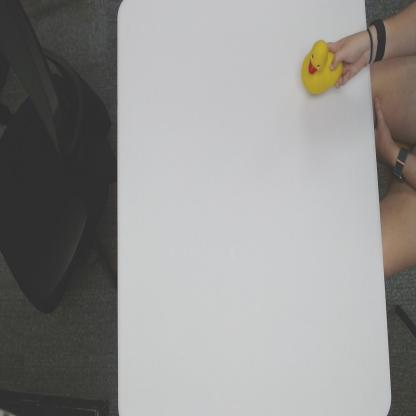Duck: (301, 38, 344, 98)
Hand: (327, 27, 371, 90)
